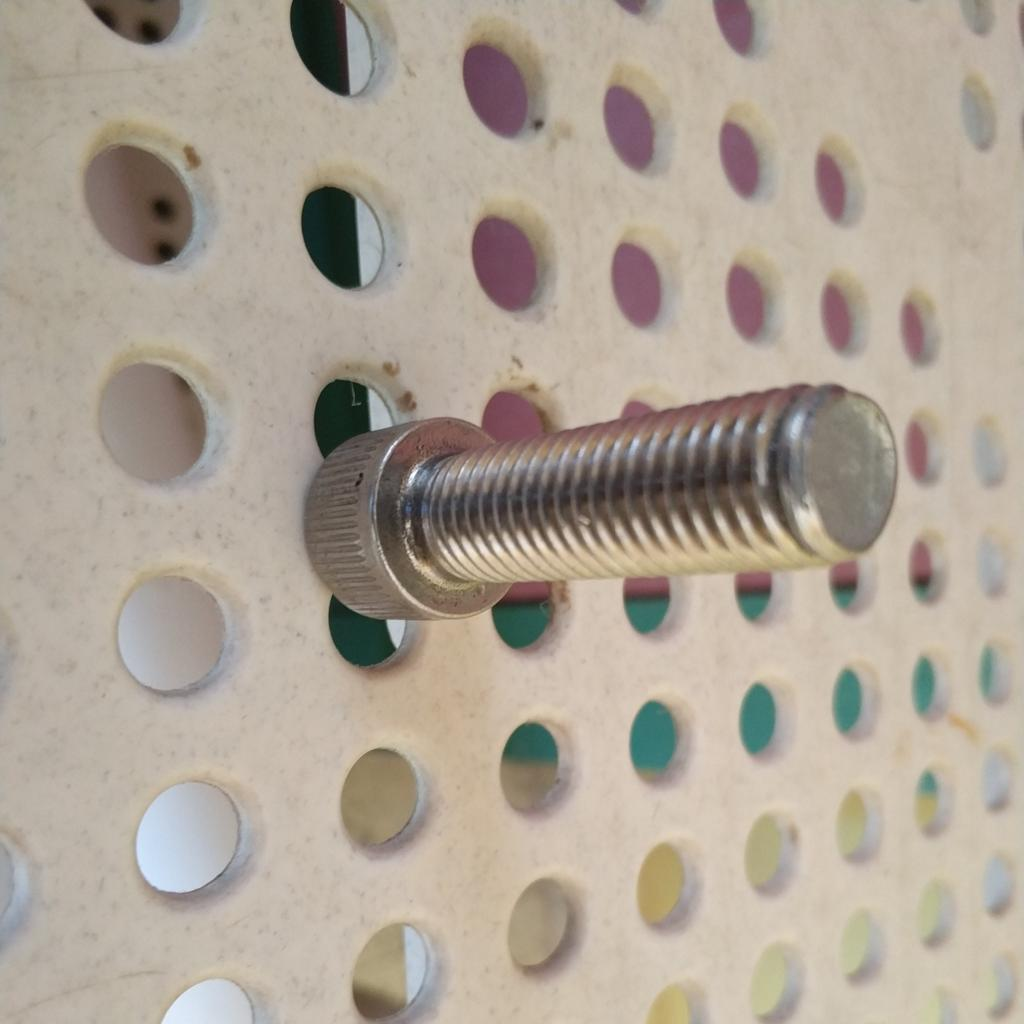screwtype1silver: (297, 376, 902, 630)
